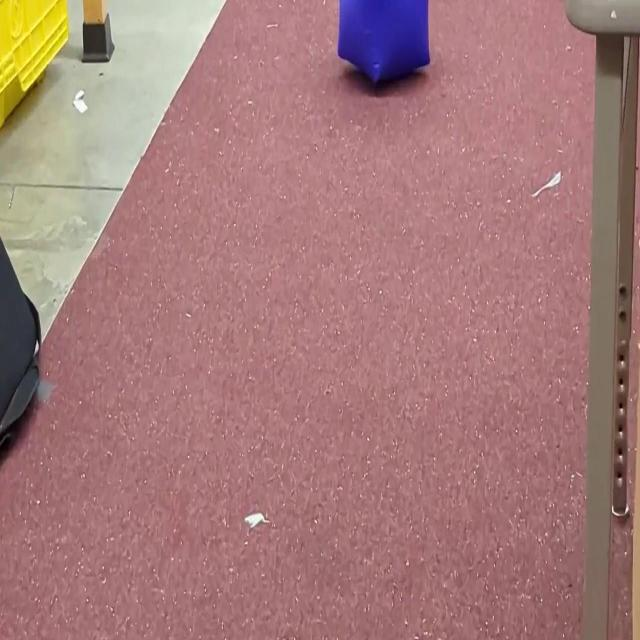frc_cube: (336, 0, 431, 85)
